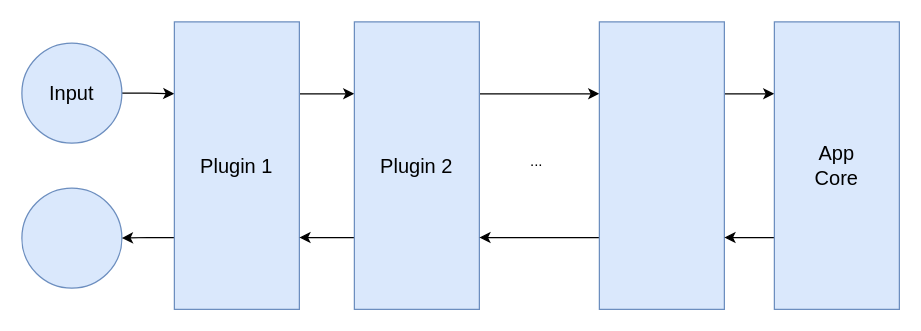
This 921x331 diagram has some shape labels left out. Each missing label, with the box of its shape:
Output: (21, 187, 122, 288)
Plugin n: (598, 21, 724, 309)
